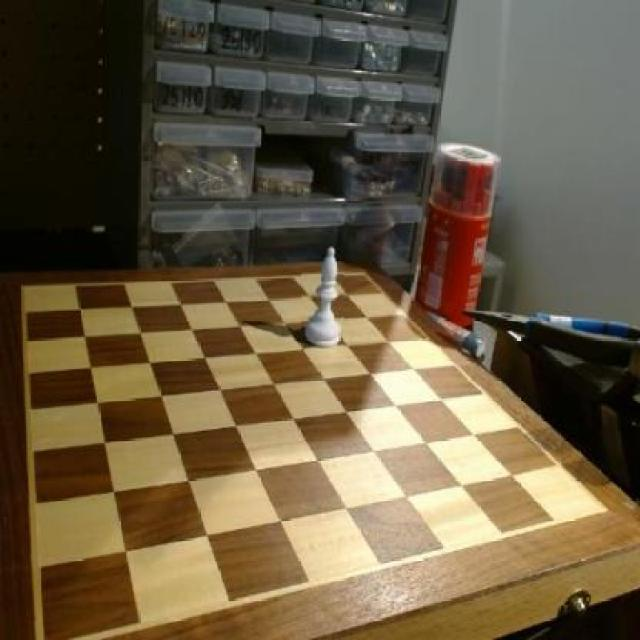black-rook: (302, 246, 344, 352)
